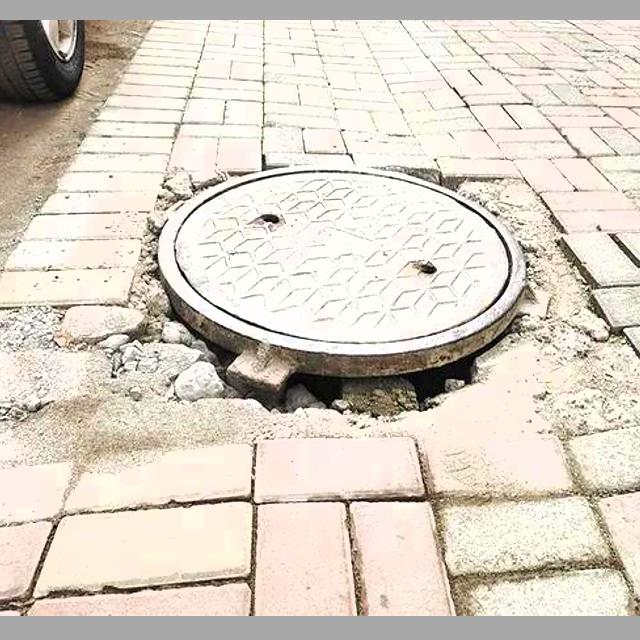circle: (89, 148, 640, 474)
